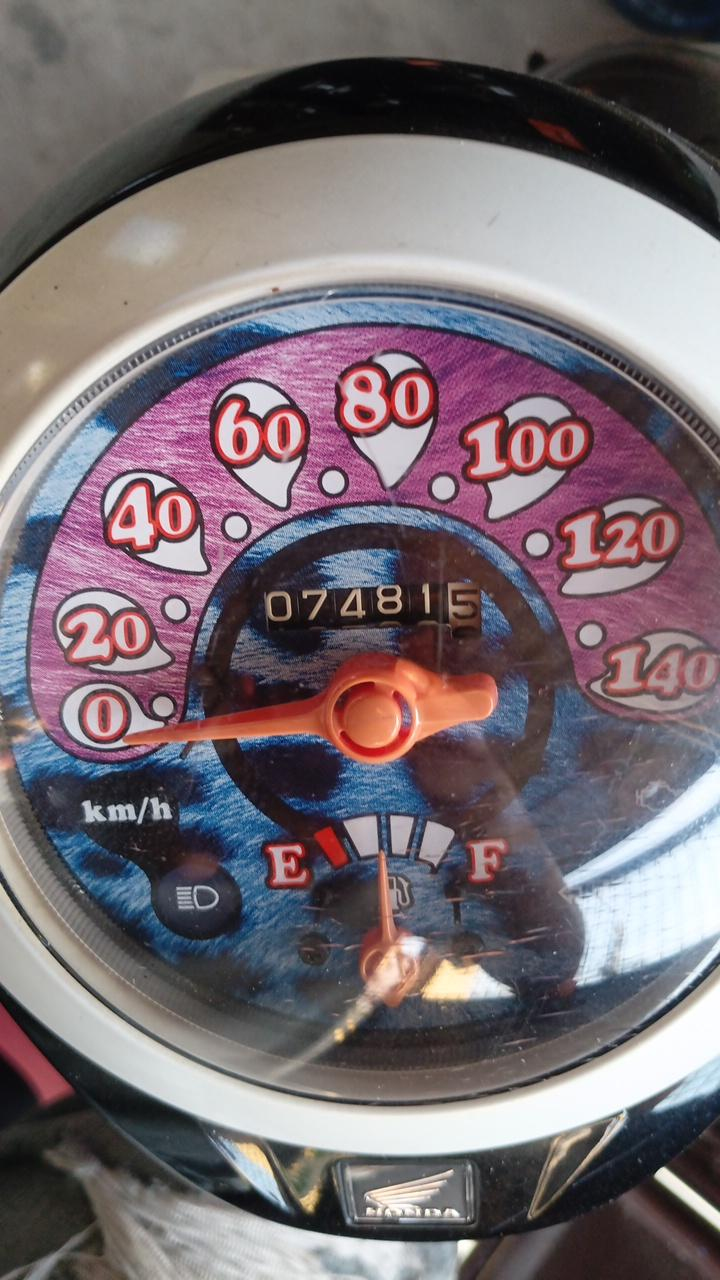0: (264, 591, 293, 623)
1: (419, 583, 433, 615)
4: (339, 588, 368, 620)
5: (449, 588, 480, 620)
7: (301, 589, 328, 623)
8: (374, 586, 404, 615)
odometer: (261, 578, 484, 647)
